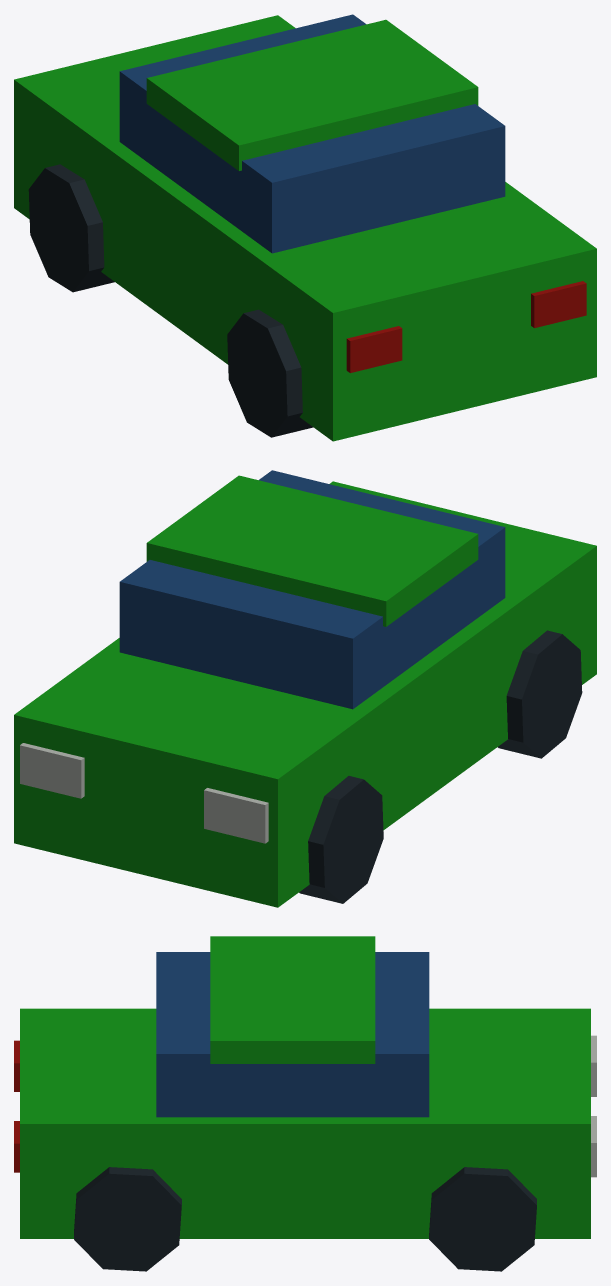
File: car-green.glb
The picture shows the model from 3 angles, top to bottom: view 1: azimuth 30°, elevation 25°; view 2: azimuth 150°, elevation 25°; view 3: azimuth 270°, elevation 25°; orthographic projection. The views are drawn at different scales.
Visible parts, largest first — view 1: car-green; view 2: car-green; view 3: car-green.
Part boxes in pixels (x1,y1,x2,y2): car-green: (14,14,596,441); car-green: (14,470,596,907); car-green: (14,936,596,1271).
Size of the model in its own units: 4.8 by 3.8 by 9.19.
